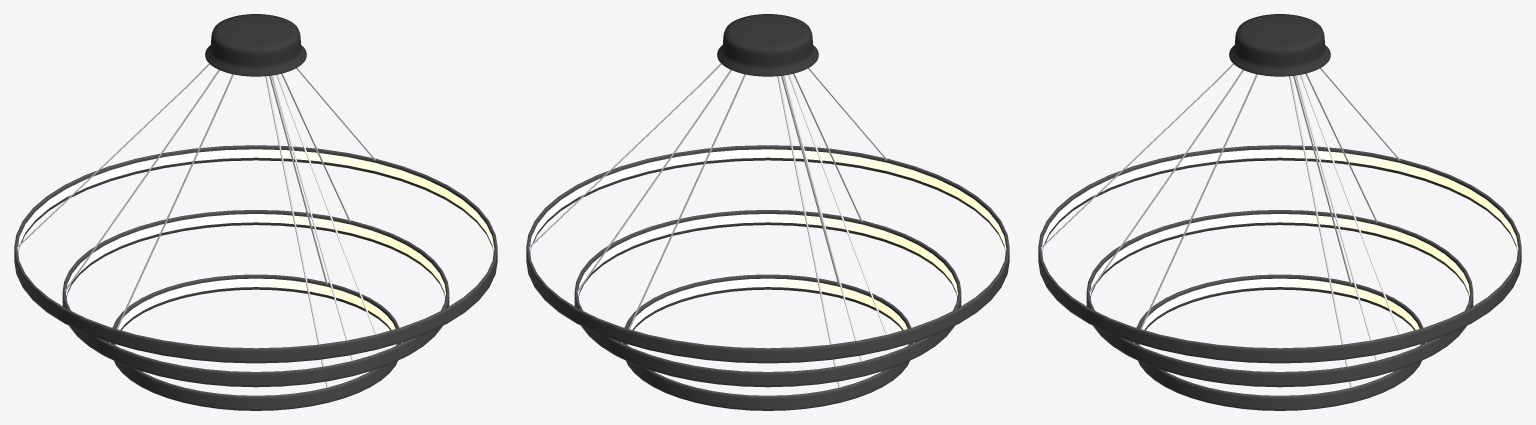
Rendered from chandelier_1.glb.
The picture shows the model from 3 angles, left to right: view 1: azimuth 30°, elevation 25°; view 2: azimuth 150°, elevation 25°; view 3: azimuth 270°, elevation 25°; orthographic projection.
Visible parts, largest first — view 1: Tube003, Tube002, Tube001, Cone001, Cylinder004, Cylinder007, Cylinder010, Cylinder002, Cylinder005, Cylinder003, Cylinder008; view 2: Tube003, Tube002, Tube001, Cone001, Cylinder002, Cylinder005, Cylinder008, Cylinder003, Cylinder006, Cylinder009, Cylinder004; view 3: Tube003, Tube002, Tube001, Cone001, Cylinder003, Cylinder006, Cylinder009, Cylinder004, Cylinder007, Cylinder002, Cylinder010.
Part boxes in pixels (<box>): Tube003: <box>14,145,497,363</box>; Tube002: <box>62,210,449,387</box>; Tube001: <box>111,274,400,410</box>; Cone001: <box>205,14,306,76</box>; Cylinder004: <box>265,76,328,387</box>; Cylinder007: <box>271,75,353,360</box>; Cylinder010: <box>276,74,376,334</box>; Cylinder002: <box>116,74,233,329</box>; Cylinder005: <box>65,70,219,290</box>; Cylinder003: <box>269,75,327,284</box>; Cylinder008: <box>17,63,209,247</box>; Tube003: <box>526,145,1009,363</box>; Tube002: <box>574,210,961,387</box>; Tube001: <box>623,274,912,410</box>; Cone001: <box>717,14,818,76</box>; Cylinder002: <box>777,76,840,387</box>; Cylinder005: <box>783,75,862,361</box>; Cylinder008: <box>788,74,887,334</box>; Cylinder003: <box>628,74,745,329</box>; Cylinder006: <box>576,69,731,292</box>; Cylinder009: <box>528,63,721,247</box>; Cylinder004: <box>781,75,839,284</box>; Tube003: <box>1038,145,1521,363</box>; Tube002: <box>1086,210,1473,387</box>; Tube001: <box>1135,274,1424,410</box>; Cone001: <box>1229,14,1330,76</box>; Cylinder003: <box>1289,76,1351,387</box>; Cylinder006: <box>1295,75,1377,360</box>; Cylinder009: <box>1300,74,1400,334</box>; Cylinder004: <box>1140,74,1257,329</box>; Cylinder007: <box>1089,70,1243,292</box>; Cylinder002: <box>1293,75,1351,284</box>; Cylinder010: <box>1040,63,1233,247</box>.
Size of the model in its own units: 74.36 by 54.22 by 74.36.
